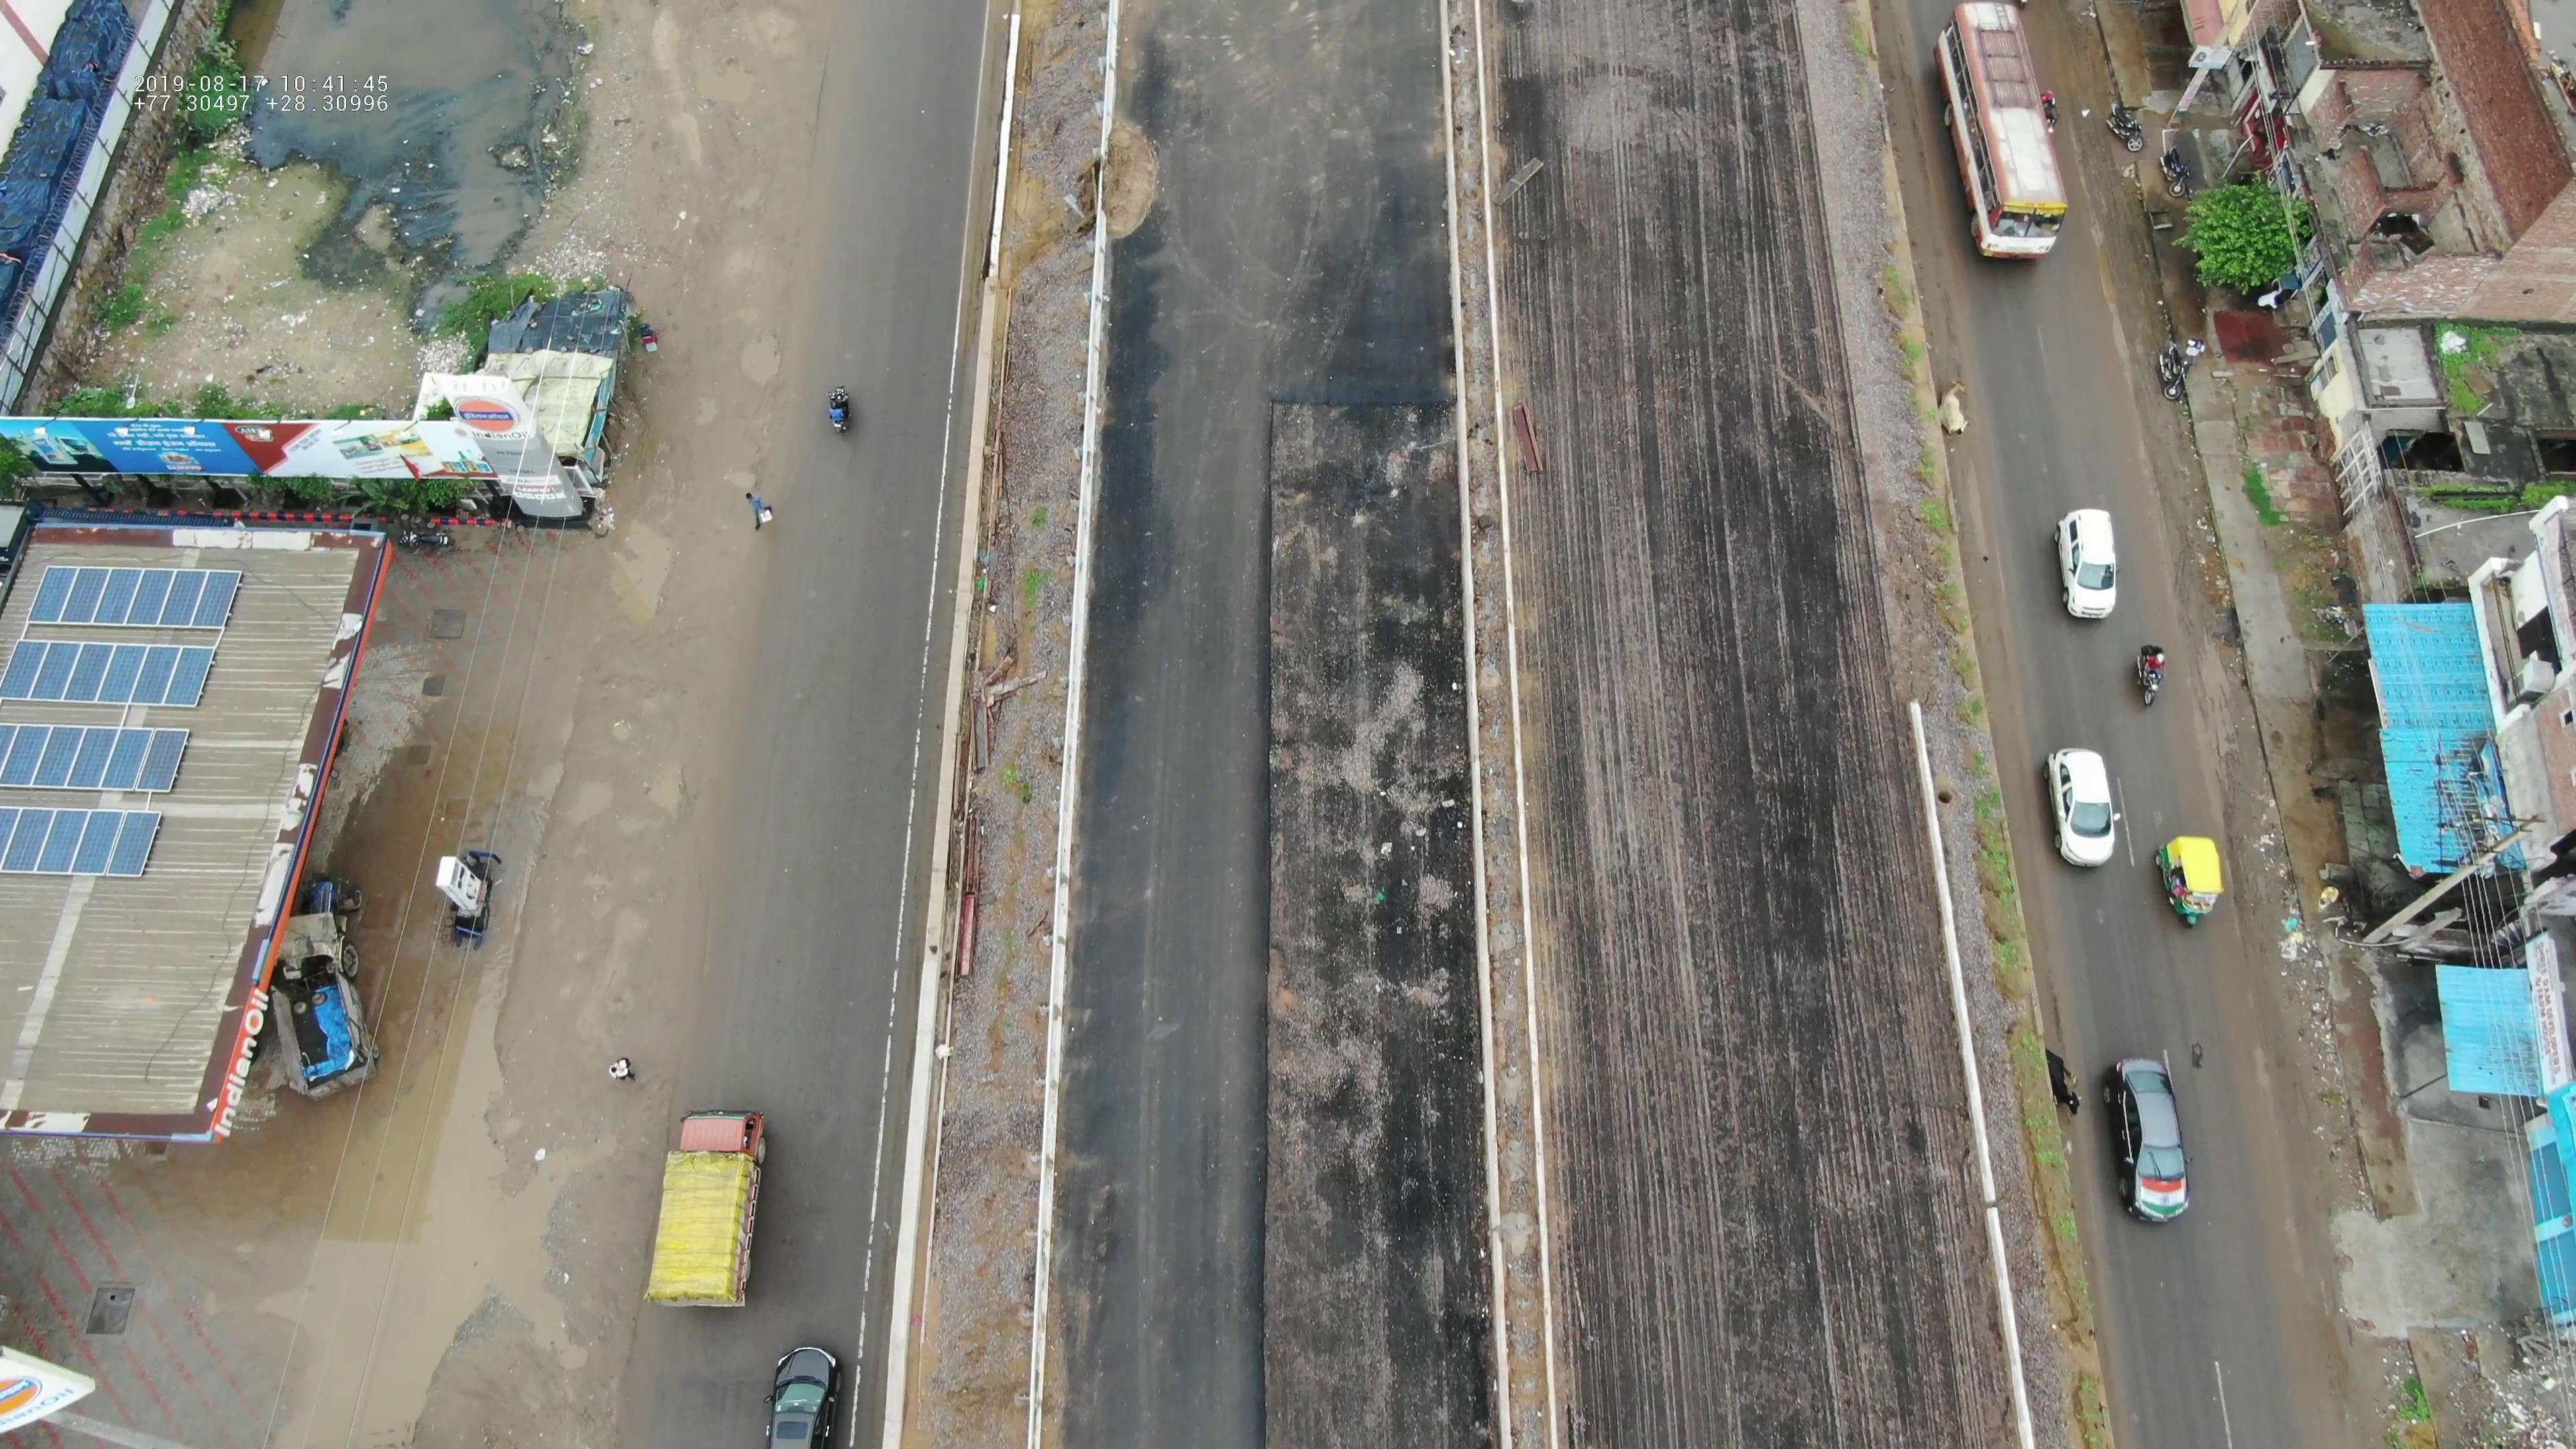Muddy_road: (492, 711, 630, 1189)
